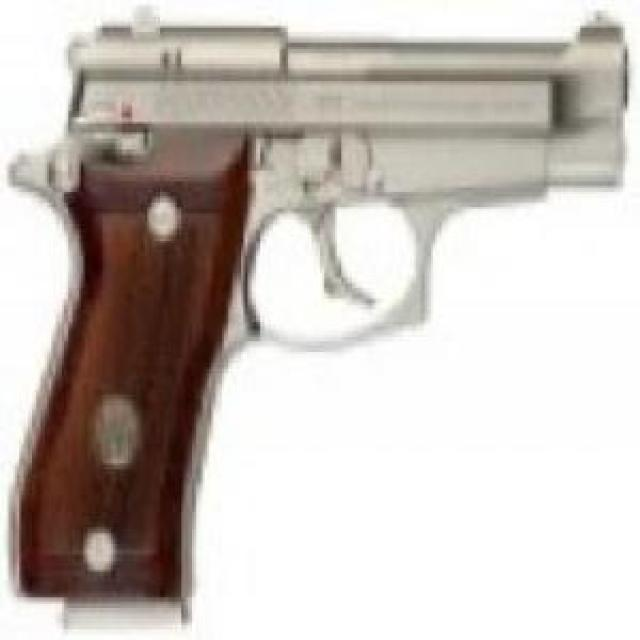pistol: (9, 6, 628, 604)
